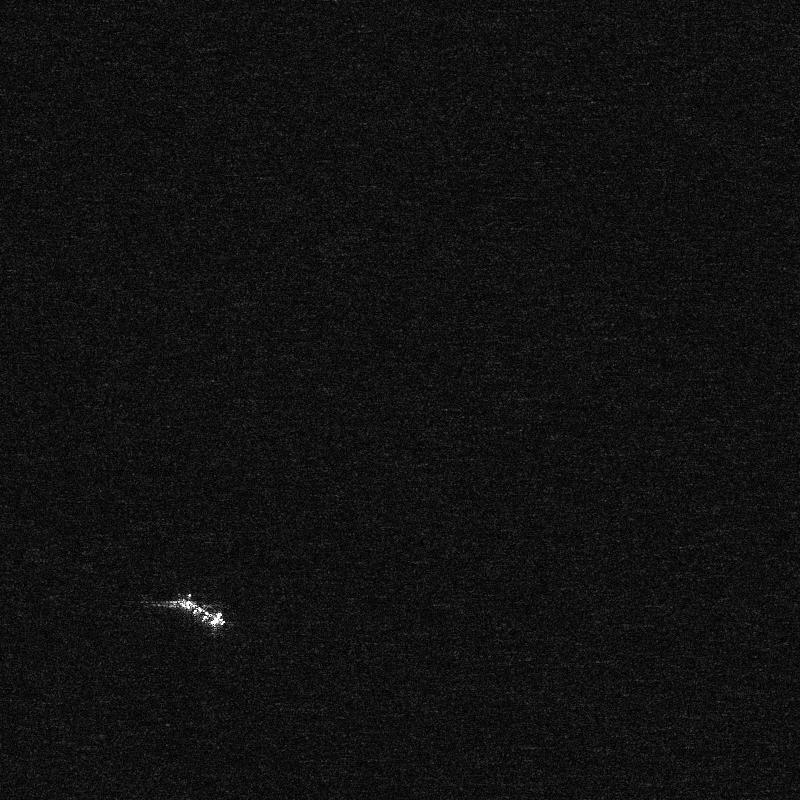ship: (175, 593, 225, 627)
